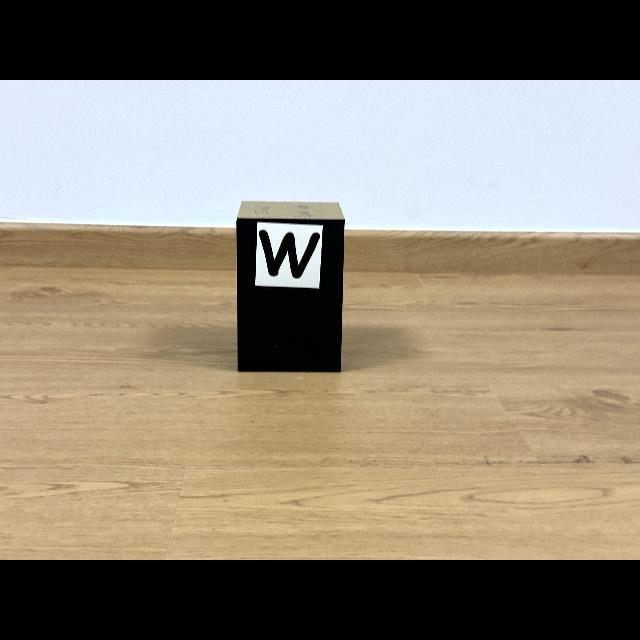W: (259, 230, 320, 279)
